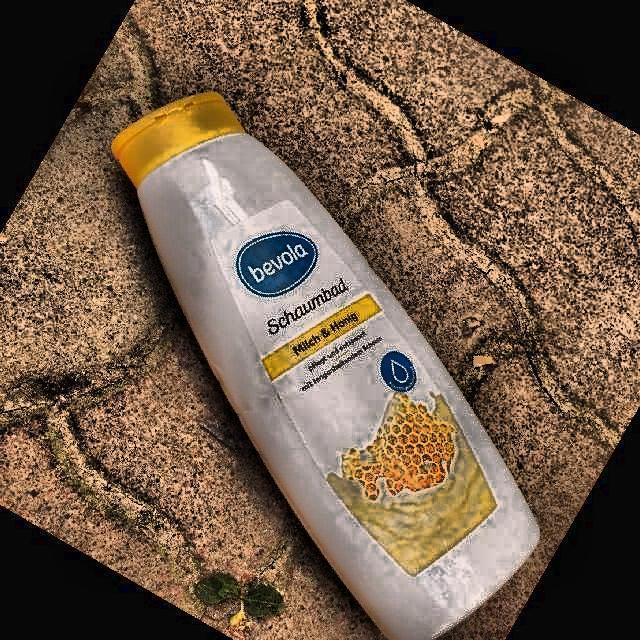plastic: (111, 94, 539, 640)
